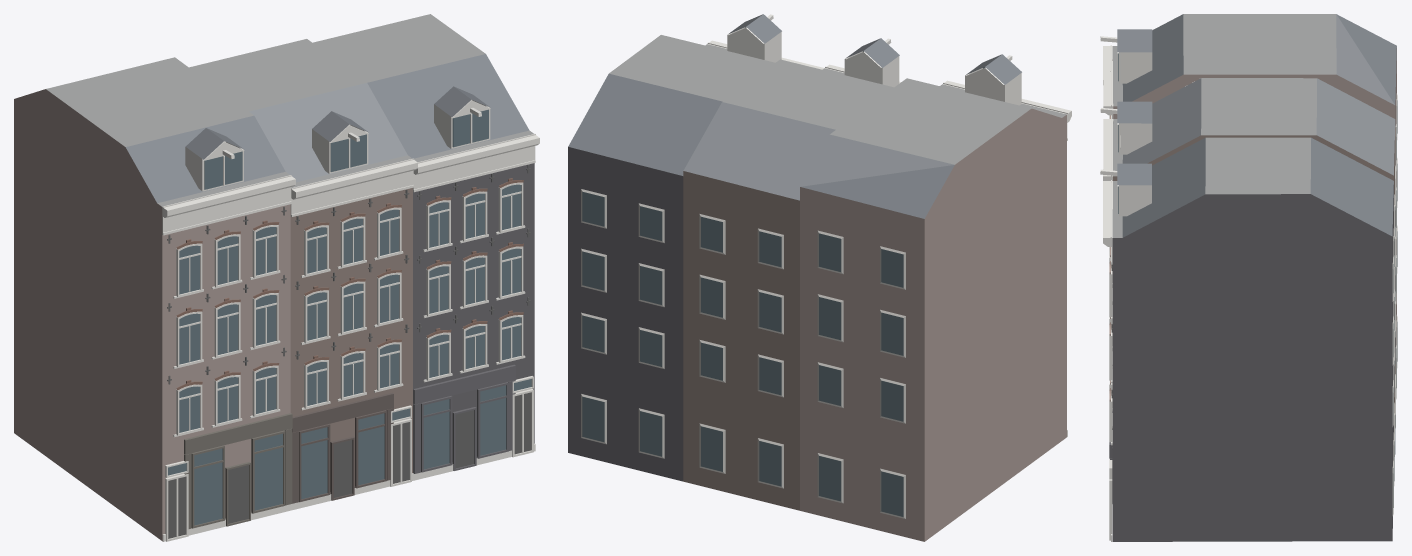
File: chunk-face-wou-32-52-r1.glb
3 views of the same model, side by side, from view 1: azimuth 30°, elevation 25°; view 2: azimuth 150°, elevation 25°; view 3: azimuth 270°, elevation 25° (orthographic). The views are drawn at different scales.
Parts seen in each view (by area): view 1: face-wou-32-52-r1; view 2: face-wou-32-52-r1; view 3: face-wou-32-52-r1.
Boxes of the visible parts, bbox=[...] form: face-wou-32-52-r1: bbox=[14, 14, 539, 541]; face-wou-32-52-r1: bbox=[568, 14, 1071, 541]; face-wou-32-52-r1: bbox=[1100, 14, 1397, 541].
Size of the model in its own units: 16.87 by 16.55 by 12.11.
